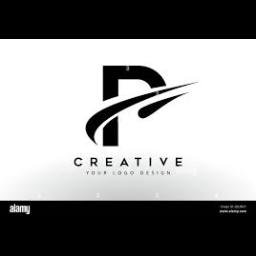p: (84, 58, 200, 154)
